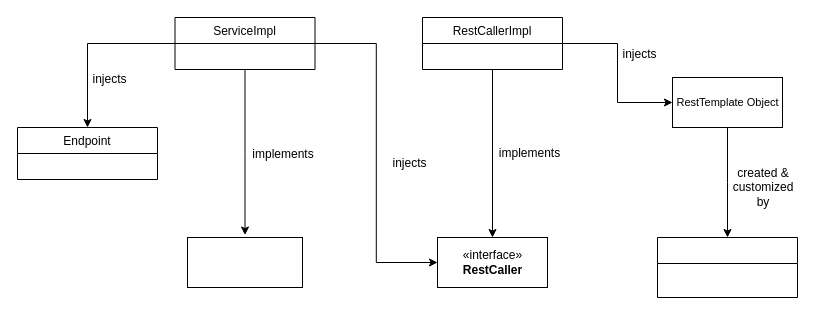
Some shapes in this 815 by 315 pixel diagram are drawn without their labels. The centre of each missing label's shape, as x and y in pixels:
RestTemplateConfig: [727,267]
«interface» Service: [244,262]
